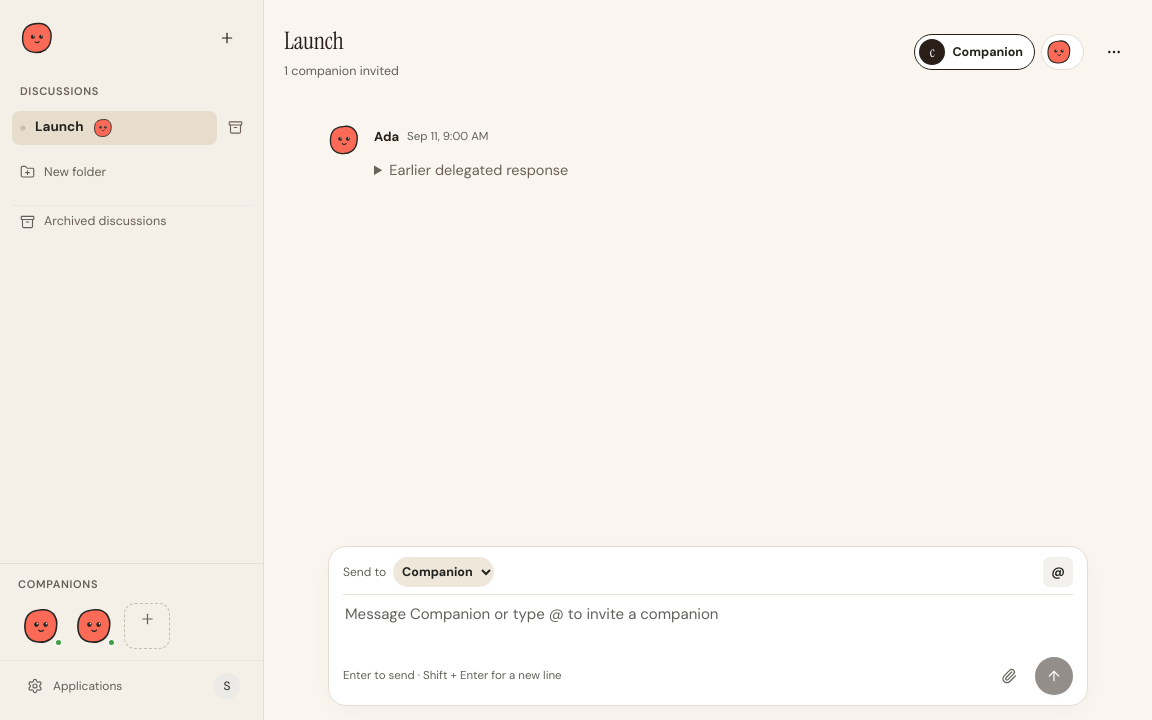
keeps older delegated responses inspectable when their tasks are outside the workbench page
Click the heading "Earlier delegated response" at (479, 170), box [389,161,568,179]
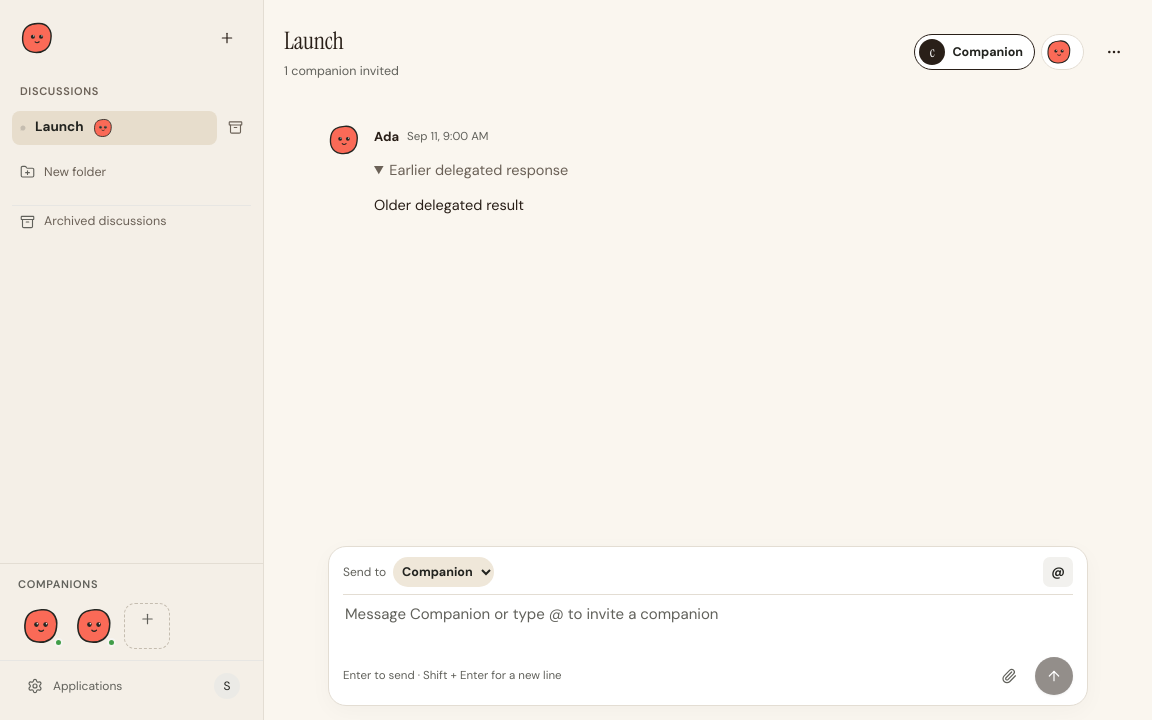
expect the text "Older delegated result" is shown: met, box [374,196,524,214]
